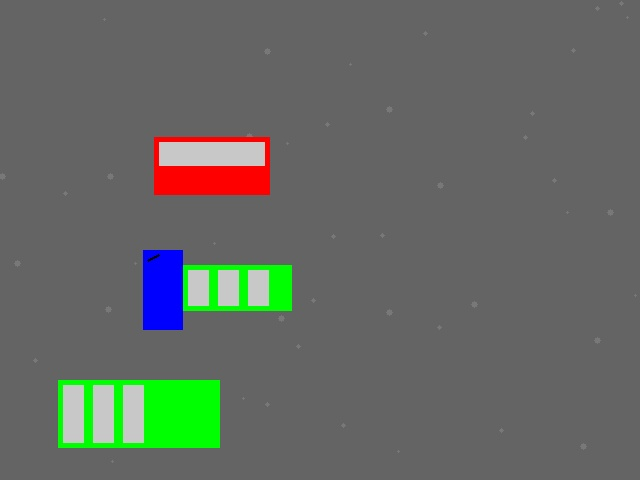bus: (58, 380, 219, 447), (183, 265, 291, 310)
car: (154, 137, 269, 194), (116, 384, 181, 416)
motorcycle: (143, 250, 182, 329)
